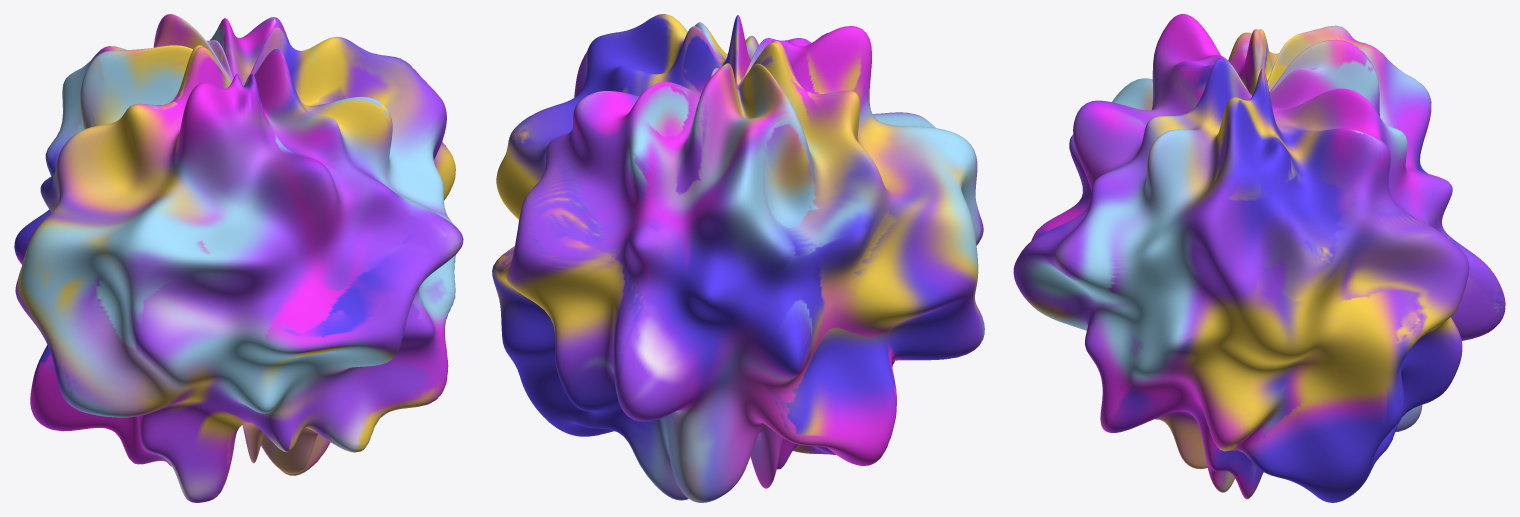
The model's file is blob12.gltf.
The picture shows the model from 3 angles, left to right: view 1: azimuth 30°, elevation 25°; view 2: azimuth 150°, elevation 25°; view 3: azimuth 270°, elevation 25°; orthographic projection. The views are drawn at different scales.
Parts seen in each view (by area): view 1: Sphere; view 2: Sphere; view 3: Sphere.
Part boxes in pixels (x1=…): Sphere: x1=14, y1=14, x2=463, y2=502; Sphere: x1=492, y1=14, x2=984, y2=502; Sphere: x1=1013, y1=14, x2=1505, y2=502.
Bounding box in the file's own units: 1.06 × 0.9997 × 1.02.
1 material, 1 textured.
